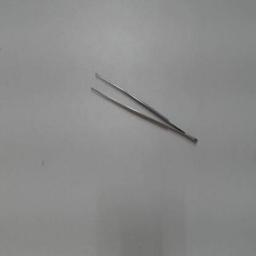Gillies Toothed Dissector: (82, 66, 202, 152)
